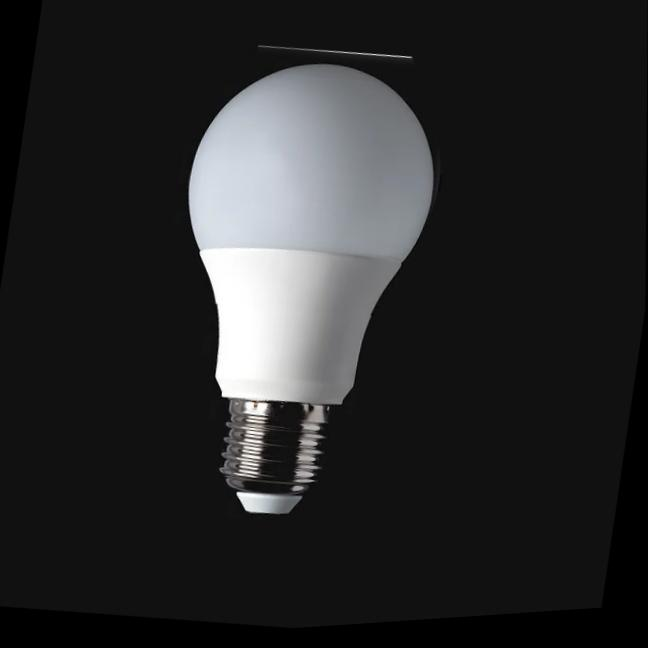Fan: (171, 32, 459, 340)
